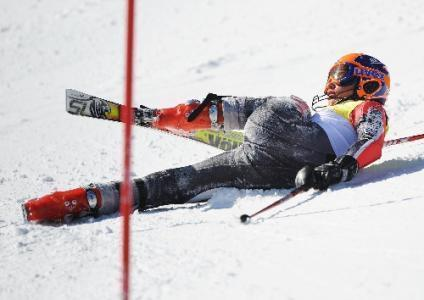Fall-Detected: (20, 39, 398, 226)
